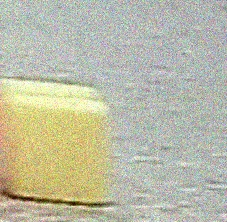yellow_cube: (0, 72, 116, 212)
